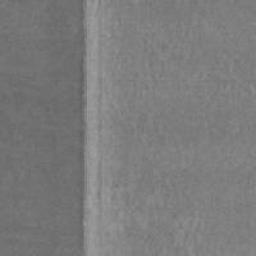Welding line: (78, 0, 87, 256)
